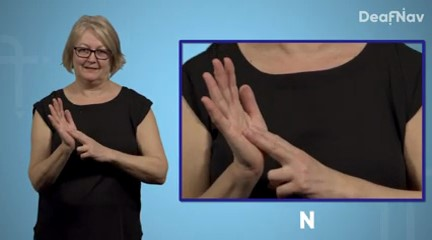N: (42, 93, 117, 163)
